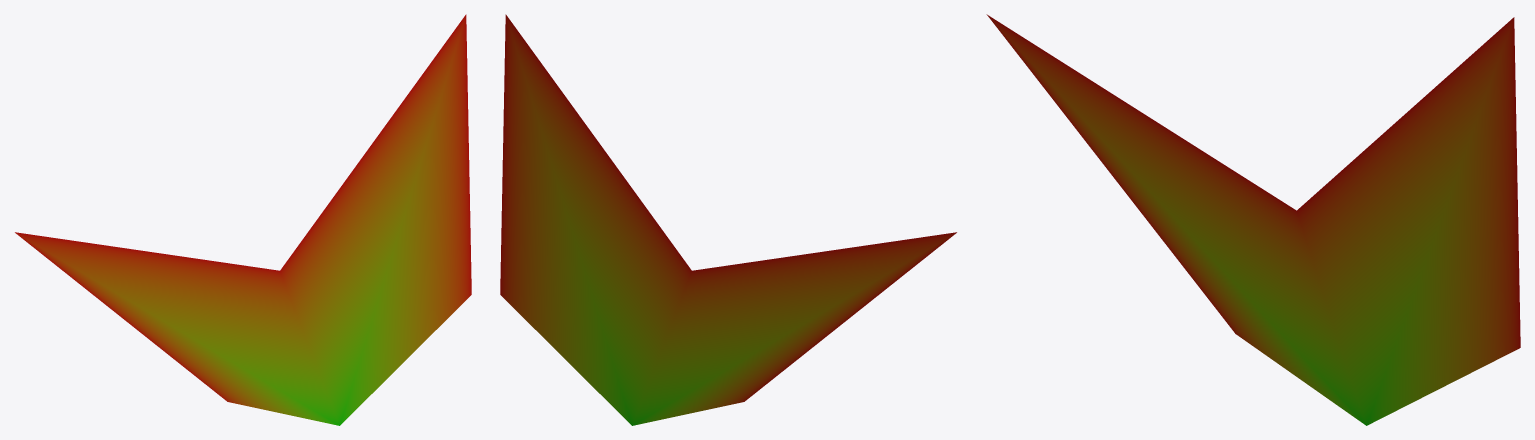
Rendered from Var17_LOD3.fbx.
3 views of the same model, side by side, from view 1: azimuth 30°, elevation 25°; view 2: azimuth 150°, elevation 25°; view 3: azimuth 330°, elevation 25° (orthographic). The views are drawn at different scales.
Parts seen in each view (by area): view 1: _tdxc_Var17_LOD3; view 2: _tdxc_Var17_LOD3; view 3: _tdxc_Var17_LOD3.
Part boxes in pixels (x1,y1,x2,y2): _tdxc_Var17_LOD3: [15, 14, 471, 425]; _tdxc_Var17_LOD3: [500, 14, 956, 425]; _tdxc_Var17_LOD3: [986, 14, 1520, 425].
Bounding box in the file's own units: 26.16 × 20.82 × 1.82e-12.
